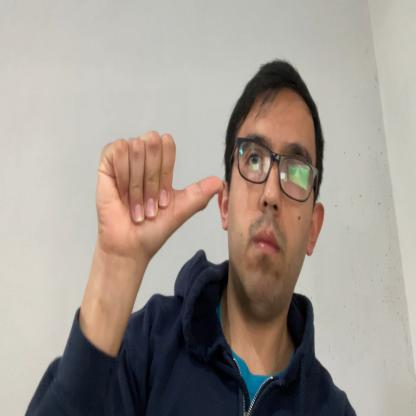A: (97, 128, 224, 258)
